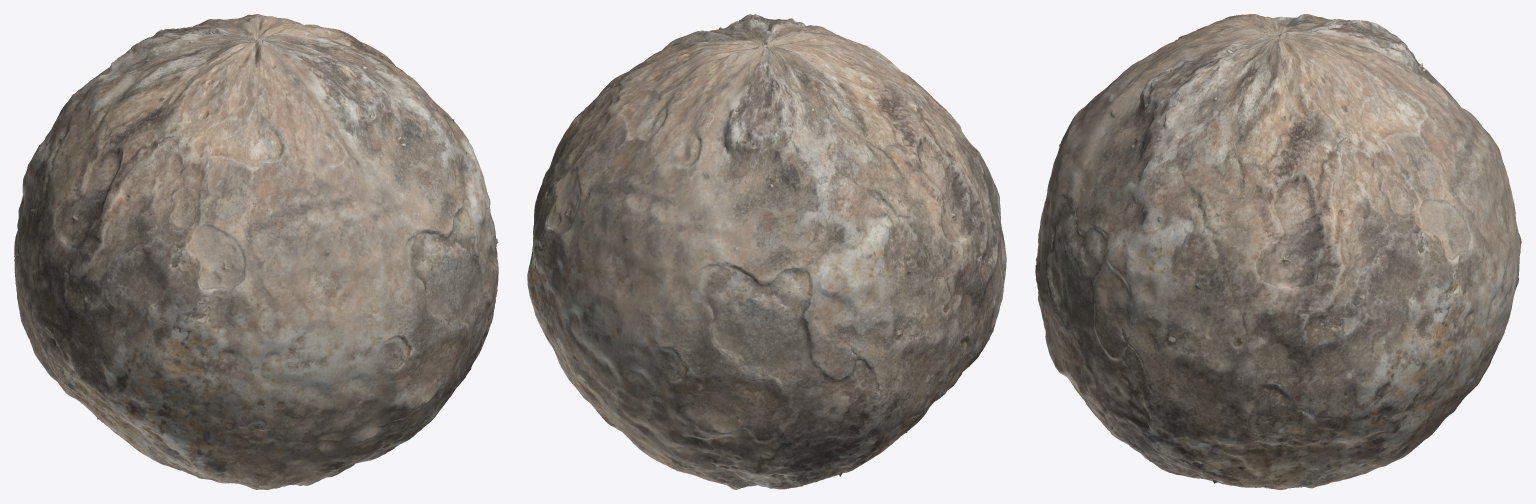
Rendered from rock_boulder_dry_1k.gltf.
The picture shows the model from 3 angles, left to right: view 1: azimuth 30°, elevation 25°; view 2: azimuth 150°, elevation 25°; view 3: azimuth 270°, elevation 25°; orthographic projection. The views are drawn at different scales.
Parts seen in each view (by area): view 1: sphere_gltf; view 2: sphere_gltf; view 3: sphere_gltf.
Part boxes in pixels (x1,y1,x2,y2): sphere_gltf: (14,14,498,489); sphere_gltf: (527,14,1006,489); sphere_gltf: (1035,14,1521,489).
Bounding box in the file's own units: 1.83 × 1.82 × 1.83.
1 material, 1 textured.
